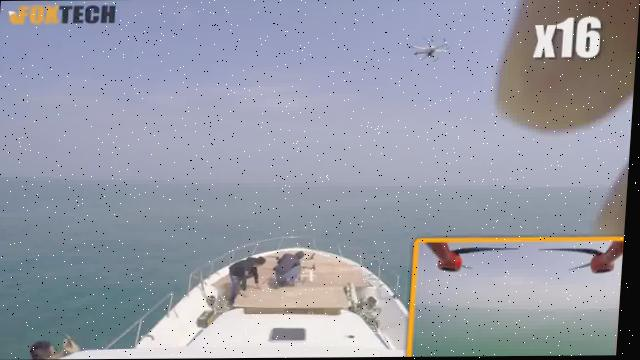drone: (405, 34, 450, 61)
